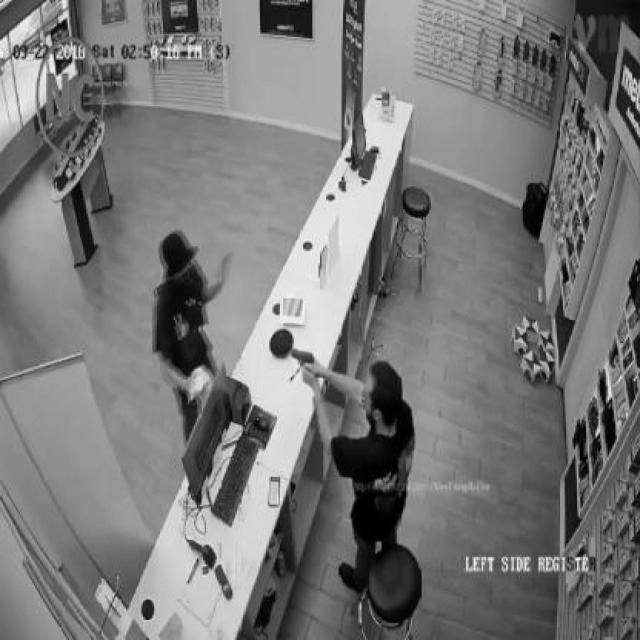weapon: (290, 349, 315, 365)
